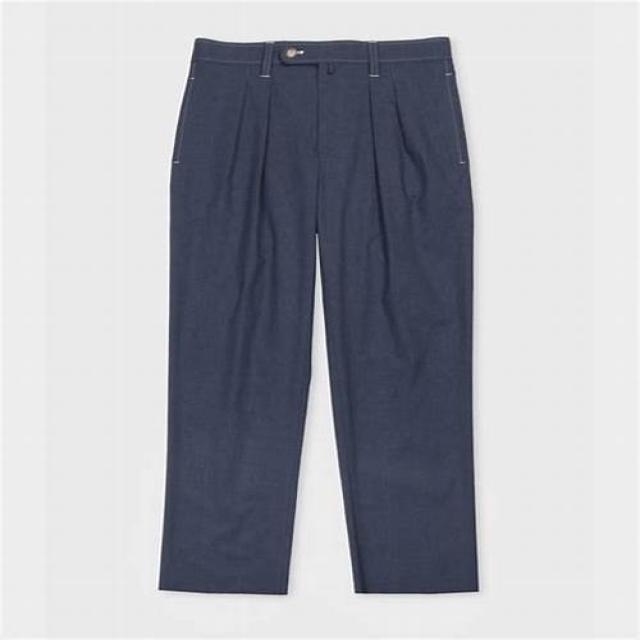long-pants: (159, 36, 482, 598)
